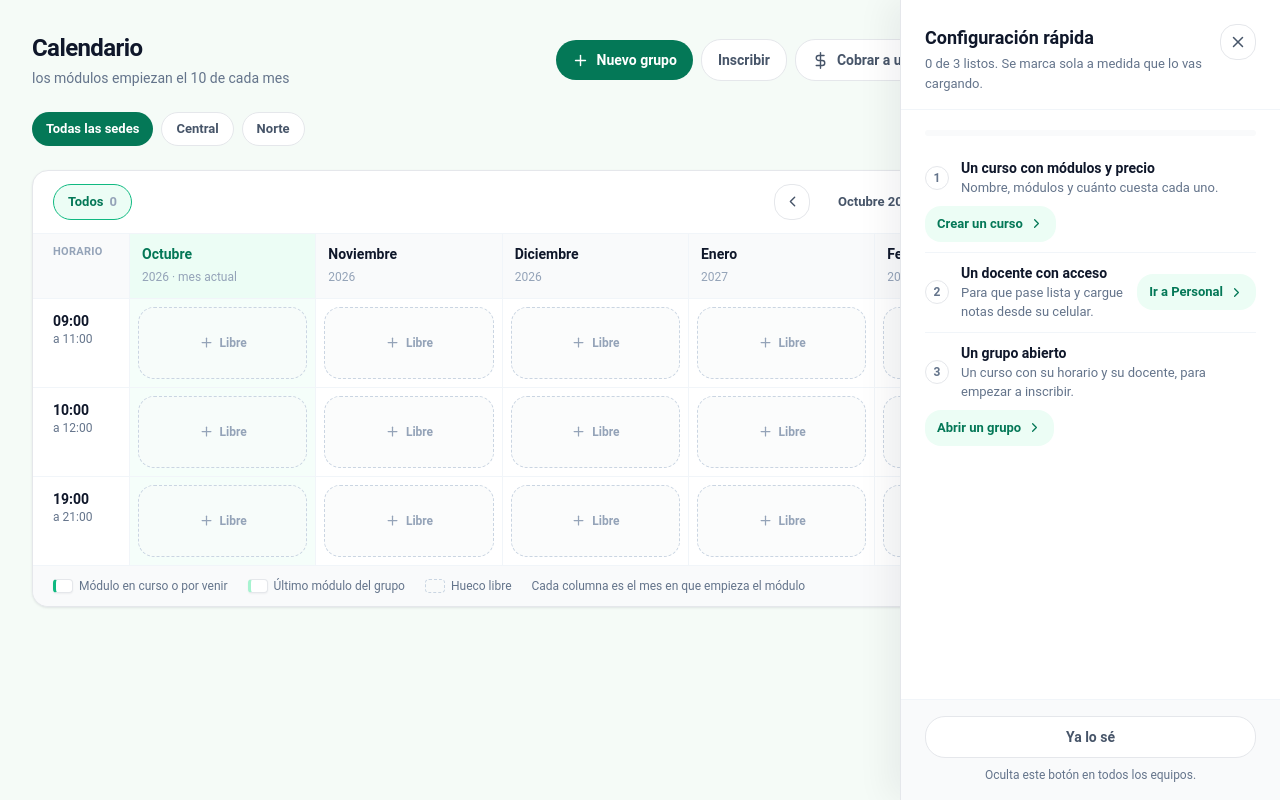
Test case: N1 · Calendario con todas las sedes (QA ronda 2, B-07) › la franja de una sola sede abre el grupo en esa sede, con sus franjas
Click the button with aria-label "Abrir grupo aquí: 10:00 a 12:00, diciembre".
click(595, 432)  # box [511,396,680,468]
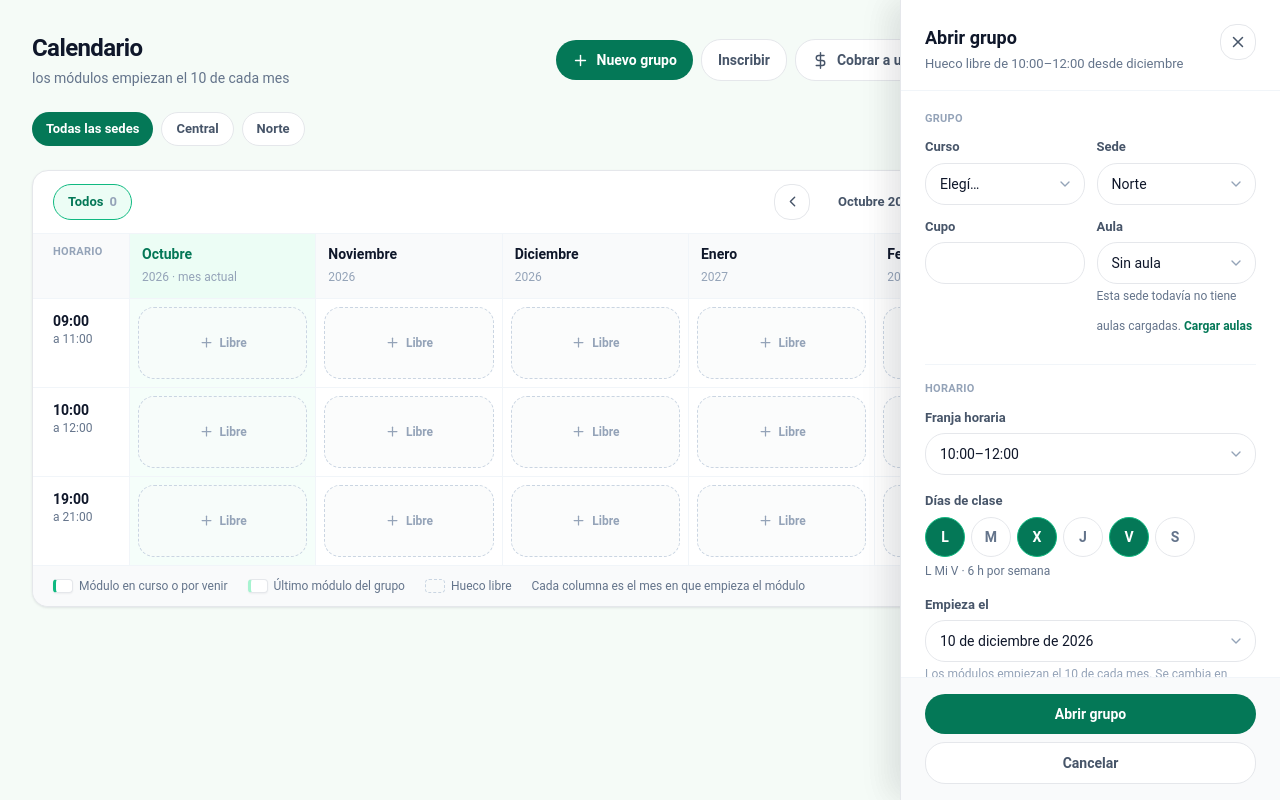
Expected: the dropdown labelled "Sede" shows "Norte", [1096,162,1256,204]
Expected: the dropdown labelled "Franja horaria" shows "10:00–12:00", [925,433,1256,475]
